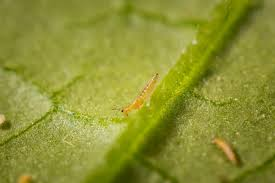Thrips: (120, 67, 162, 128), (207, 131, 245, 165)
